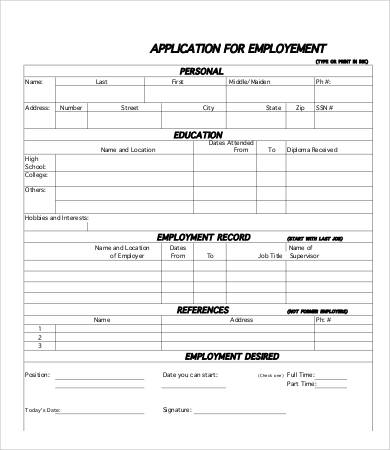table: (23, 65, 373, 435)
